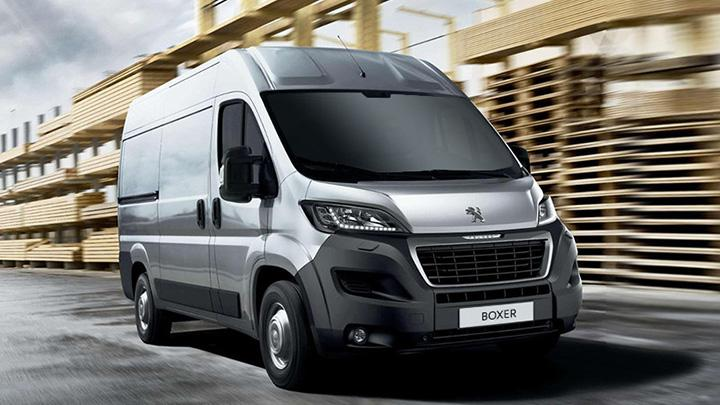van: (118, 46, 583, 389)
